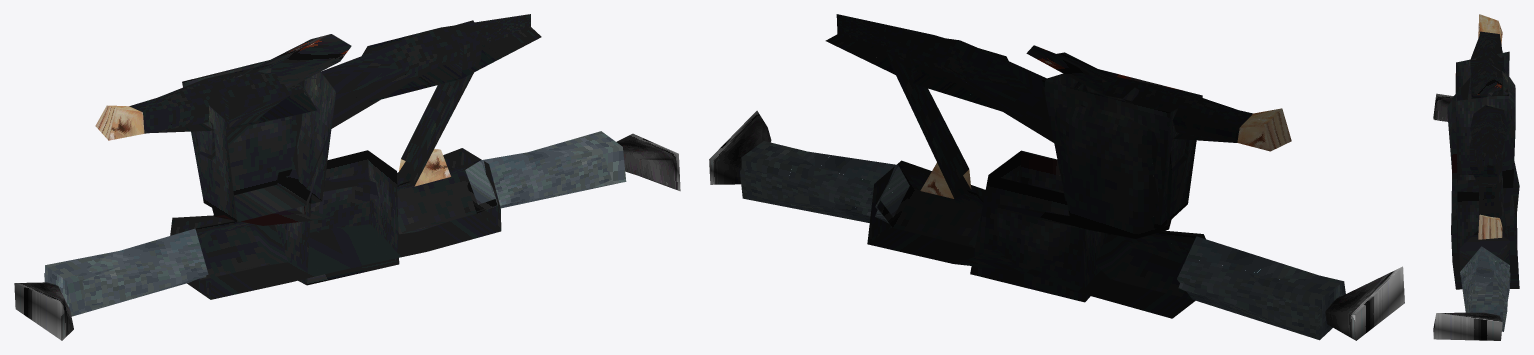
File: CgreatguardZ.obj
3 views of the same model, side by side, from view 1: azimuth 30°, elevation 25°; view 2: azimuth 150°, elevation 25°; view 3: azimuth 270°, elevation 25° (orthographic). The views are drawn at different scales.
Bounding box in the file's own units: 2107 × 710 × 352.
12 materials, 12 textured.
